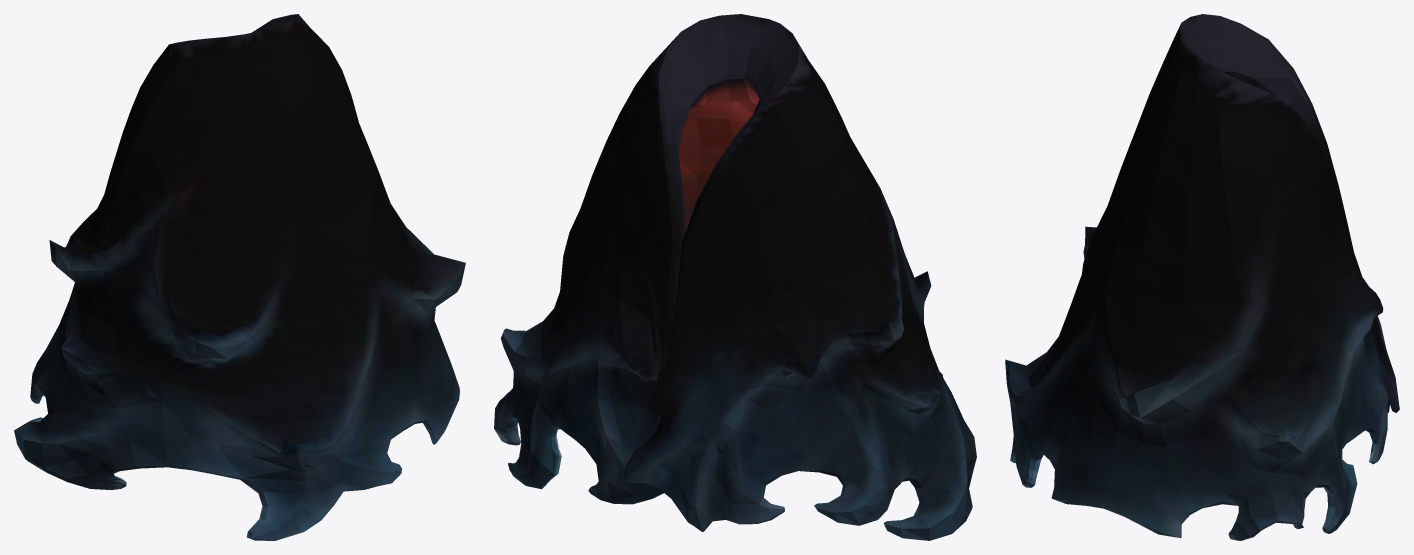
The model's file is CharSkyKid_Wing_AP27Darkness.glb.
3 renders of one model, left to right at view 1: azimuth 30°, elevation 25°; view 2: azimuth 150°, elevation 25°; view 3: azimuth 270°, elevation 25°, orthographic. The views are drawn at different scales.
Visible parts, largest first — view 1: CharSkyKid_Wing_AP27Darkness; view 2: CharSkyKid_Wing_AP27Darkness; view 3: CharSkyKid_Wing_AP27Darkness.
Boxes of the visible parts, <box> form: CharSkyKid_Wing_AP27Darkness: <box>14,14,465,540</box>; CharSkyKid_Wing_AP27Darkness: <box>494,14,976,540</box>; CharSkyKid_Wing_AP27Darkness: <box>1005,14,1399,540</box>.
Size of the model in its own units: 7.56 by 7.79 by 6.08.
Materials: 1 (1 with a texture image).
